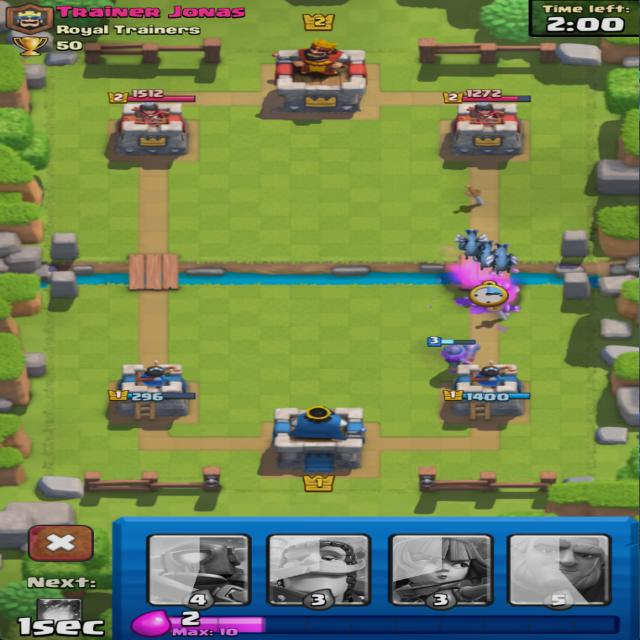Archers_Loading: (389, 534, 493, 612)
Giant_Loading: (506, 534, 611, 611)
Knight_Loading: (266, 534, 371, 612)
Mini_Pekka_Loading: (146, 534, 251, 611)
